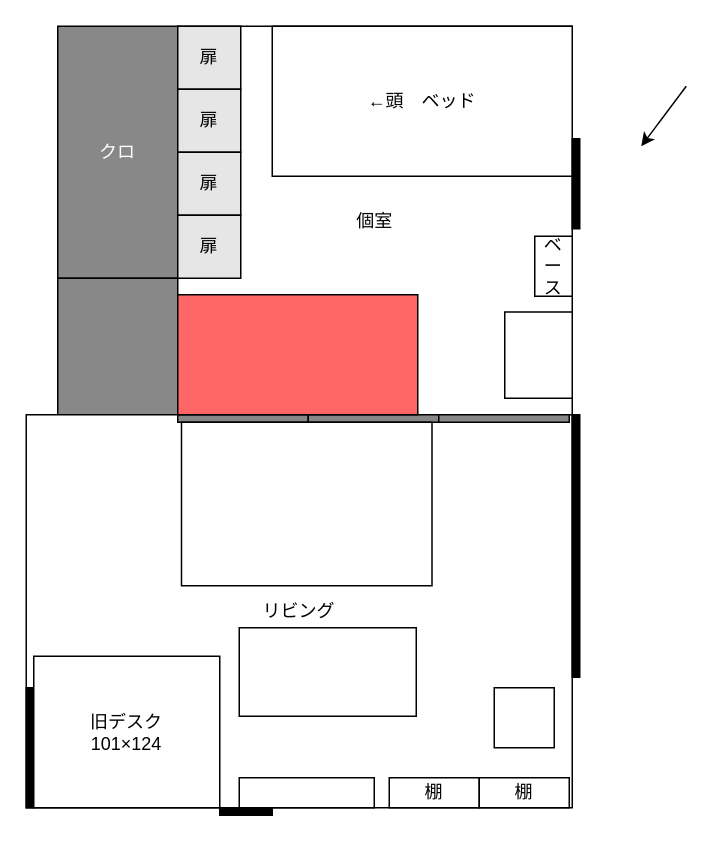
Some shapes in this 725 by 842 pixel diagram are drawn without their labels. The shapes that lost their labels are listed below. From the top down, each one's box as (x1, y1, x2, y2) in pixels, then its label:
(56, 277, 178, 415): ものおき
(176, 293, 418, 415): Newデスク 160×80 or 140×80
(180, 421, 432, 586): ソファ
(238, 626, 416, 716): テーブル
(493, 686, 554, 748): ハンガ ラック
(238, 776, 374, 808): テレビ
